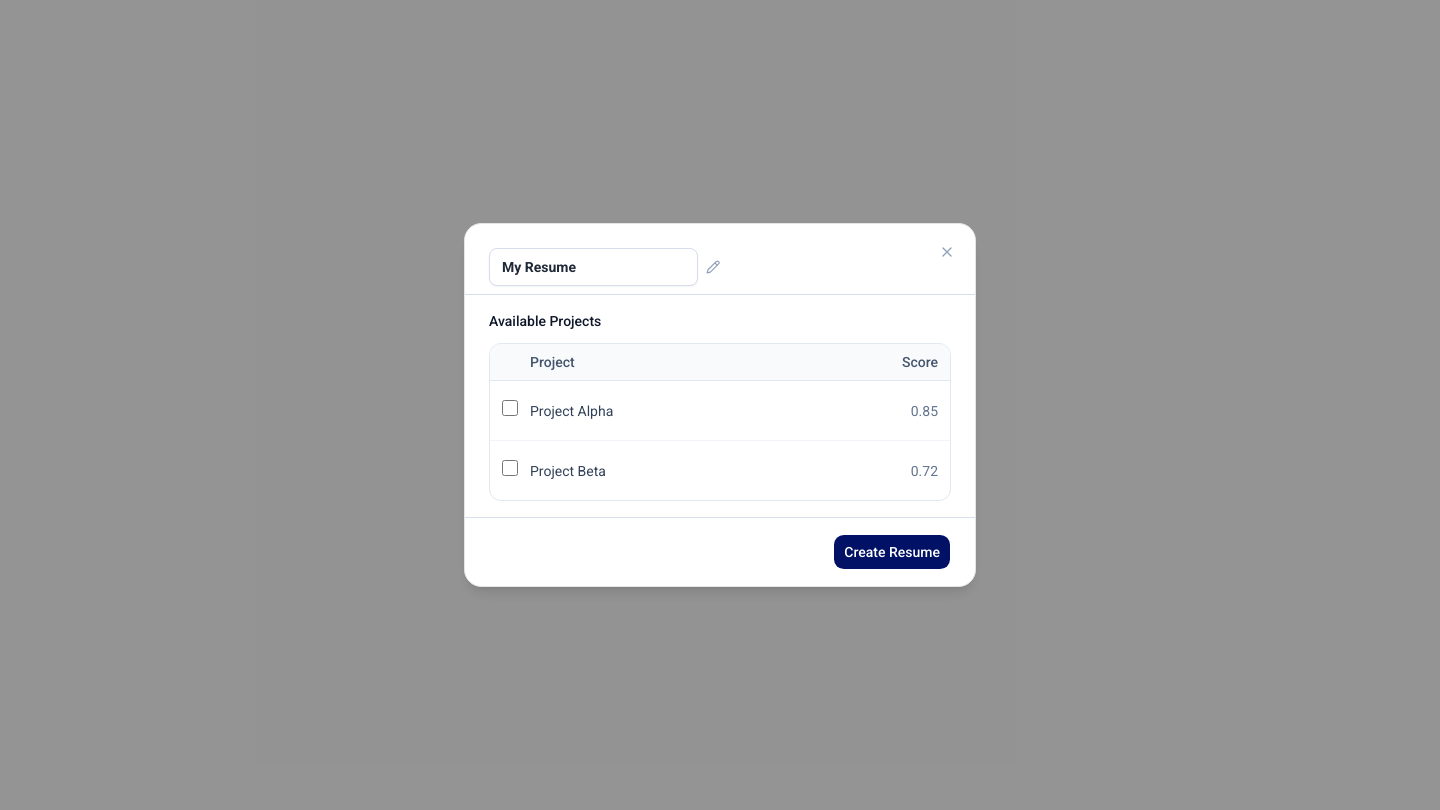
Test case: CreateResumeModal › shows error when create API fails
Click the text "Project Alpha" at (572,410), box [530,380,796,440]
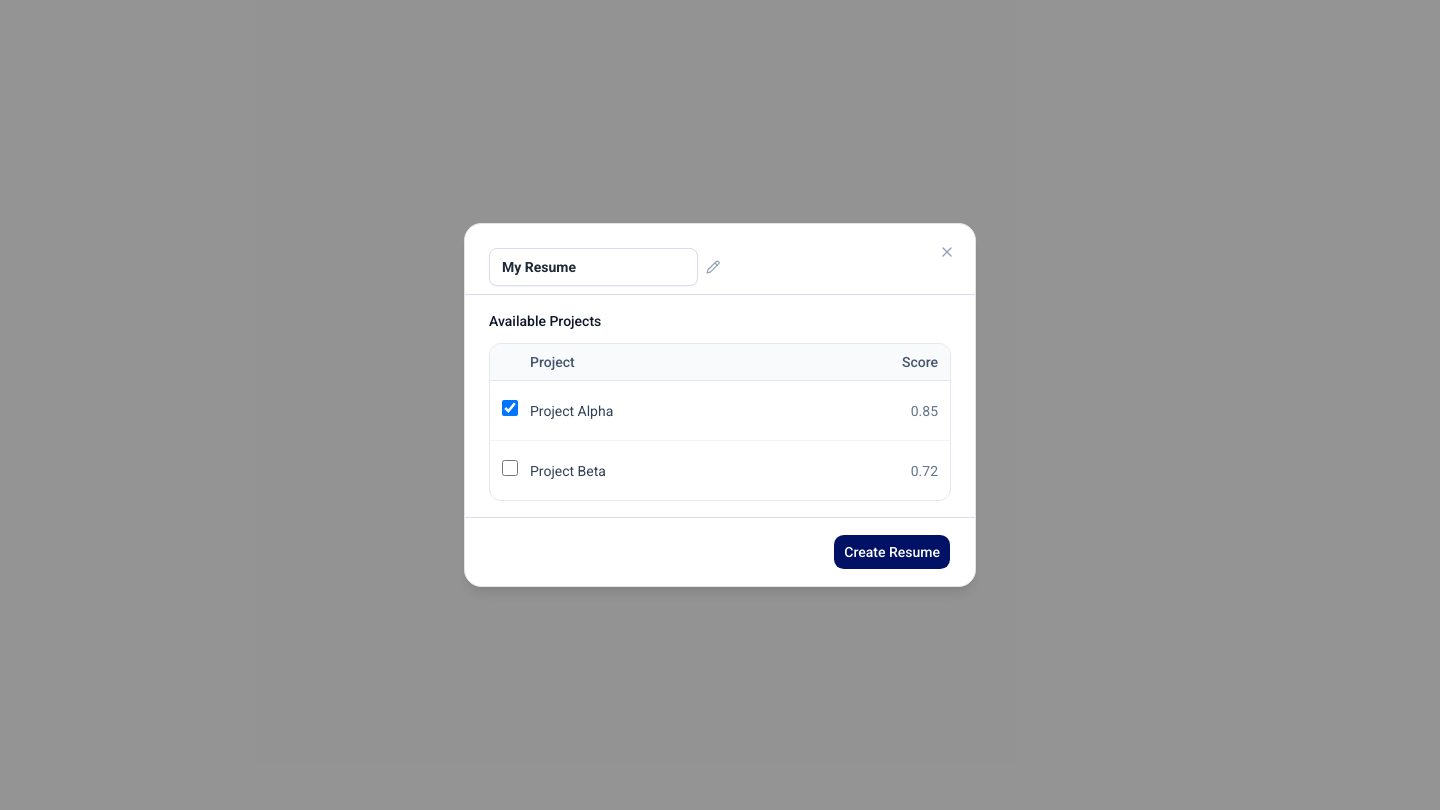
Click the button "Create Resume" at (892,552), box [833,534,951,570]
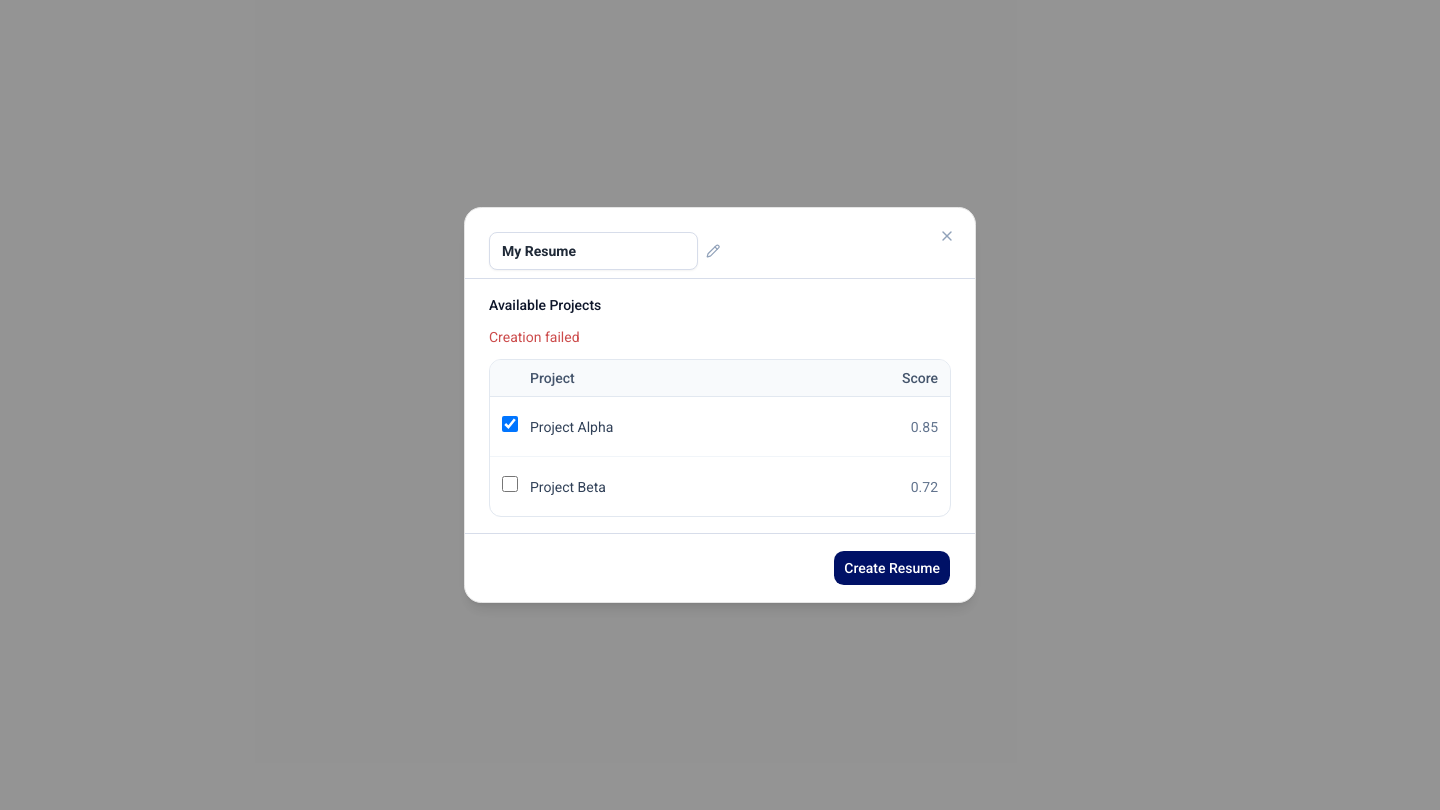
Expected: the text "Creation failed" is shown, [489,329,580,345]
